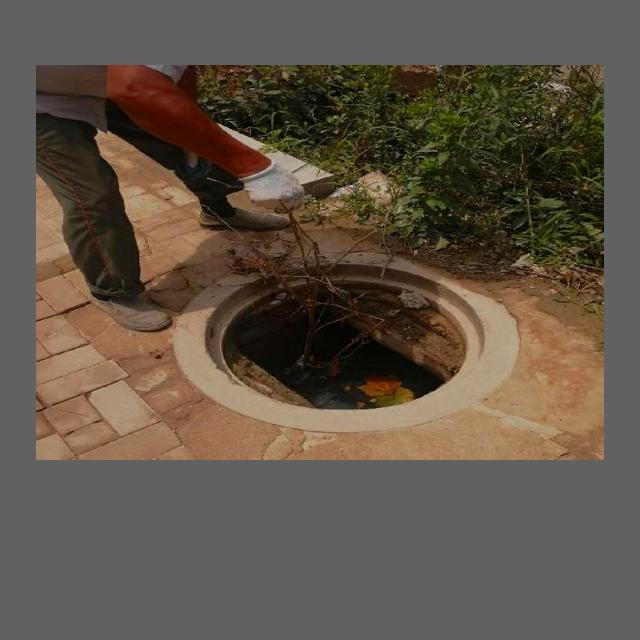lose: (175, 253, 518, 430)
